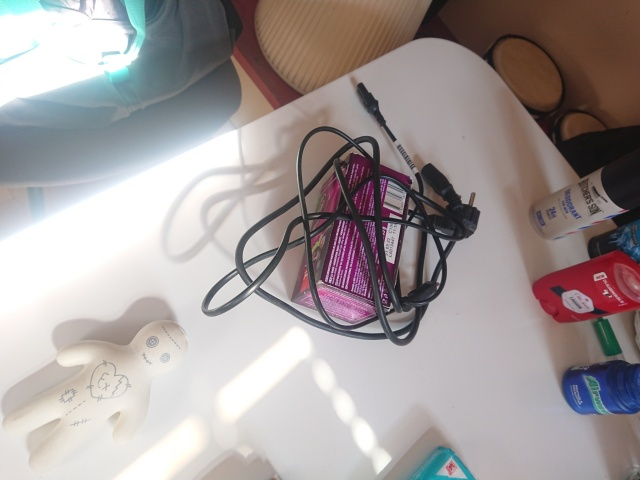Franck Black Currant Tea 60g: (289, 152, 415, 326)
